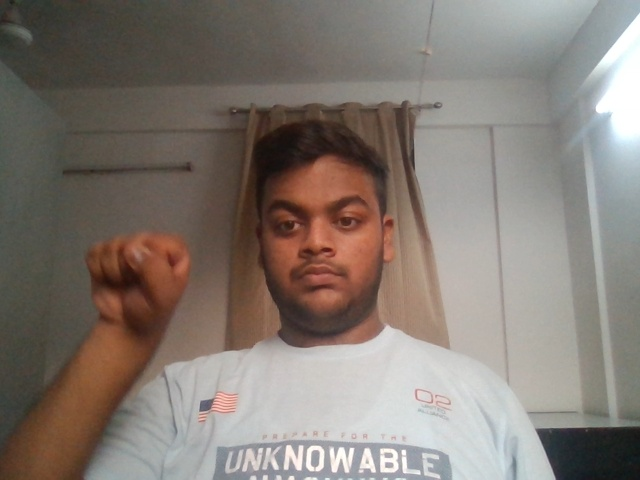Yes: (57, 220, 220, 363)
